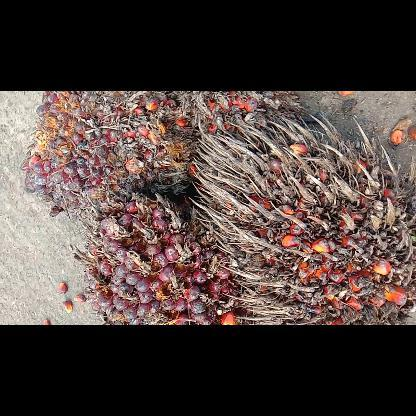TBS masak: (74, 192, 252, 324), (22, 91, 198, 221)
Terlalu masak: (190, 114, 414, 324), (167, 91, 305, 143)
